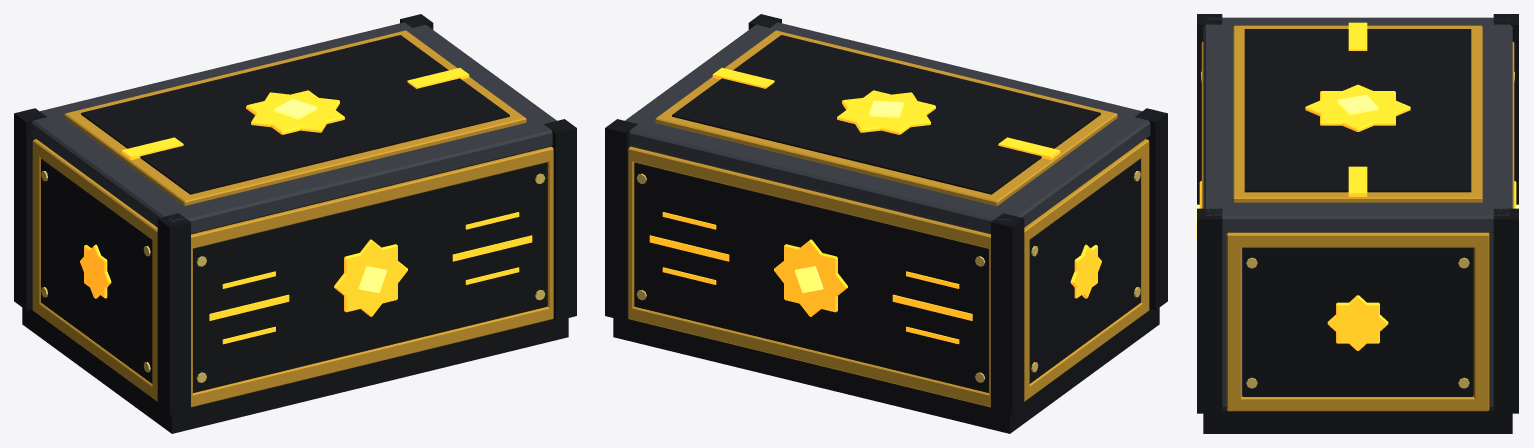
File: super_crate.glb
3 renders of one model, left to right at view 1: azimuth 30°, elevation 25°; view 2: azimuth 150°, elevation 25°; view 3: azimuth 270°, elevation 25°, orthographic. The views are drawn at different scales.
Parts seen in each view (by area): view 1: Plate.001, LidIn, LidBoard, Plate.003, Pallet, LidRim, Post, Rim.003, Rim.002, Post.002, Post.001, Star1.001 (+16 smaller); view 2: Plate, LidIn, LidBoard, Plate.003, Pallet, LidRim, Post.001, Rim.001, Rim, Post.003, Post, Star1 (+14 smaller); view 3: LidIn, Plate.002, LidBoard, LidRim, Pallet, Post.003, Post.002, Rim.005, Rim.004, RimS.005, RimS.004, LidStar1 (+12 smaller).
Part boxes in pixels (bbox=[...]): Plate.001: bbox=[193, 162, 547, 392]; LidIn: bbox=[81, 35, 509, 194]; LidBoard: bbox=[31, 19, 556, 234]; Plate.003: bbox=[41, 158, 152, 383]; Pallet: bbox=[22, 307, 568, 433]; LidRim: bbox=[64, 30, 526, 205]; Post: bbox=[157, 213, 190, 415]; Rim.003: bbox=[191, 147, 553, 248]; Rim.002: bbox=[191, 306, 552, 407]; Post.002: bbox=[544, 119, 576, 320]; Post.001: bbox=[14, 108, 46, 310]; Star1.001: bbox=[344, 244, 397, 312]; Plate: bbox=[634, 162, 988, 392]; LidIn: bbox=[672, 35, 1100, 194]; LidBoard: bbox=[625, 19, 1150, 234]; Plate.003: bbox=[1029, 158, 1140, 383]; Pallet: bbox=[613, 307, 1159, 433]; LidRim: bbox=[655, 30, 1117, 205]; Post.001: bbox=[991, 213, 1024, 415]; Rim.001: bbox=[628, 146, 990, 248]; Rim: bbox=[628, 306, 990, 407]; Post.003: bbox=[605, 119, 637, 320]; Post: bbox=[1135, 108, 1167, 310]; Star1: bbox=[784, 244, 837, 312]; LidIn: bbox=[1244, 29, 1471, 192]; Plate.002: bbox=[1242, 247, 1473, 396]; LidBoard: bbox=[1203, 17, 1512, 232]; LidRim: bbox=[1233, 25, 1482, 202]; Pallet: bbox=[1203, 407, 1512, 433]; Post.003: bbox=[1493, 208, 1518, 413]; Post.002: bbox=[1197, 208, 1222, 413]; Rim.005: bbox=[1226, 232, 1489, 247]; Rim.004: bbox=[1226, 395, 1489, 411]; RimS.005: bbox=[1474, 234, 1489, 411]; RimS.004: bbox=[1226, 233, 1241, 411]; LidStar1: bbox=[1320, 91, 1395, 125].
Bounding box in the file's own units: 0.77 × 0.403 × 0.512.
